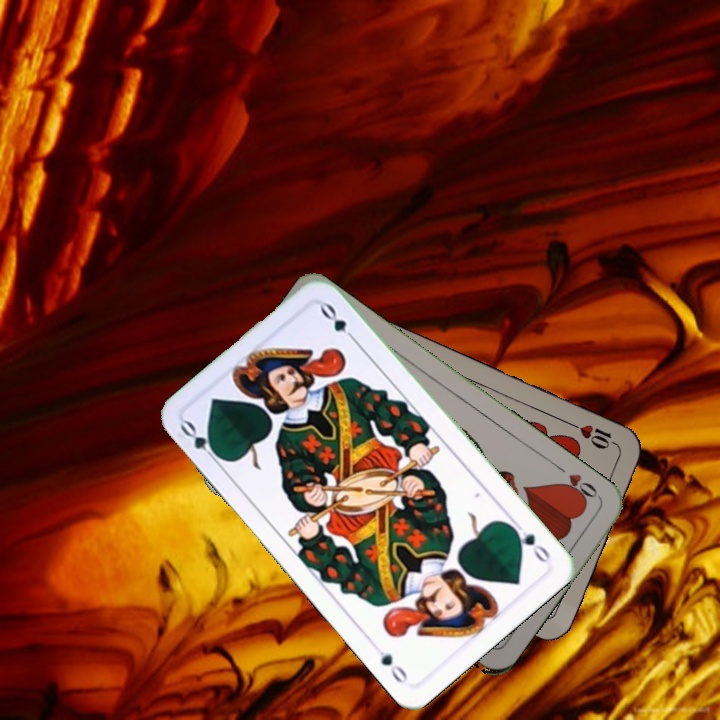GO: (176, 416, 225, 467), (506, 516, 553, 566)
H10: (566, 419, 622, 452)
HO: (551, 460, 603, 506)
